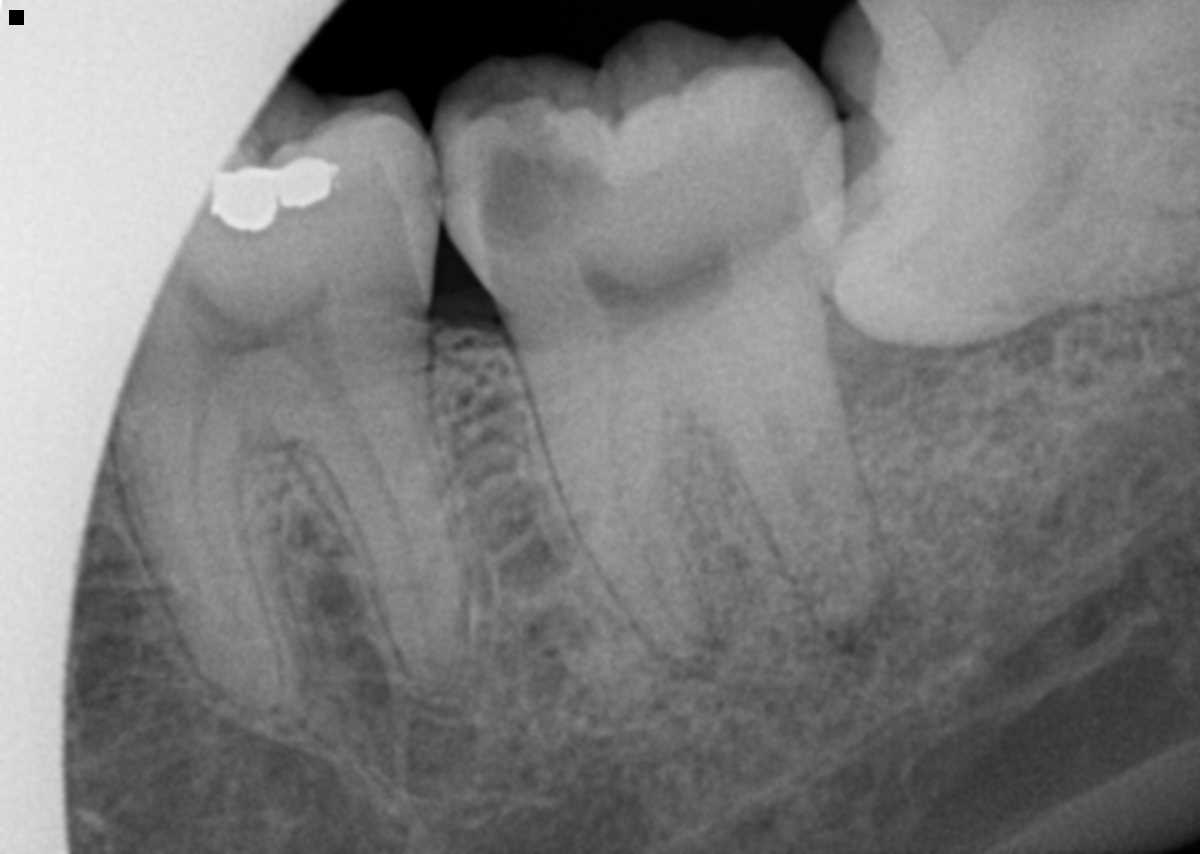Apical Lesion: (822, 540, 921, 674), (670, 624, 728, 690)
Distal Canal: (313, 365, 440, 672), (719, 332, 837, 541)
Distal Root: (263, 345, 471, 691), (676, 317, 882, 640)
Mesial Canal: (605, 349, 698, 641), (187, 394, 251, 632)
Mesial Root: (509, 338, 705, 664), (103, 391, 279, 716)
decay: (464, 140, 622, 266)
